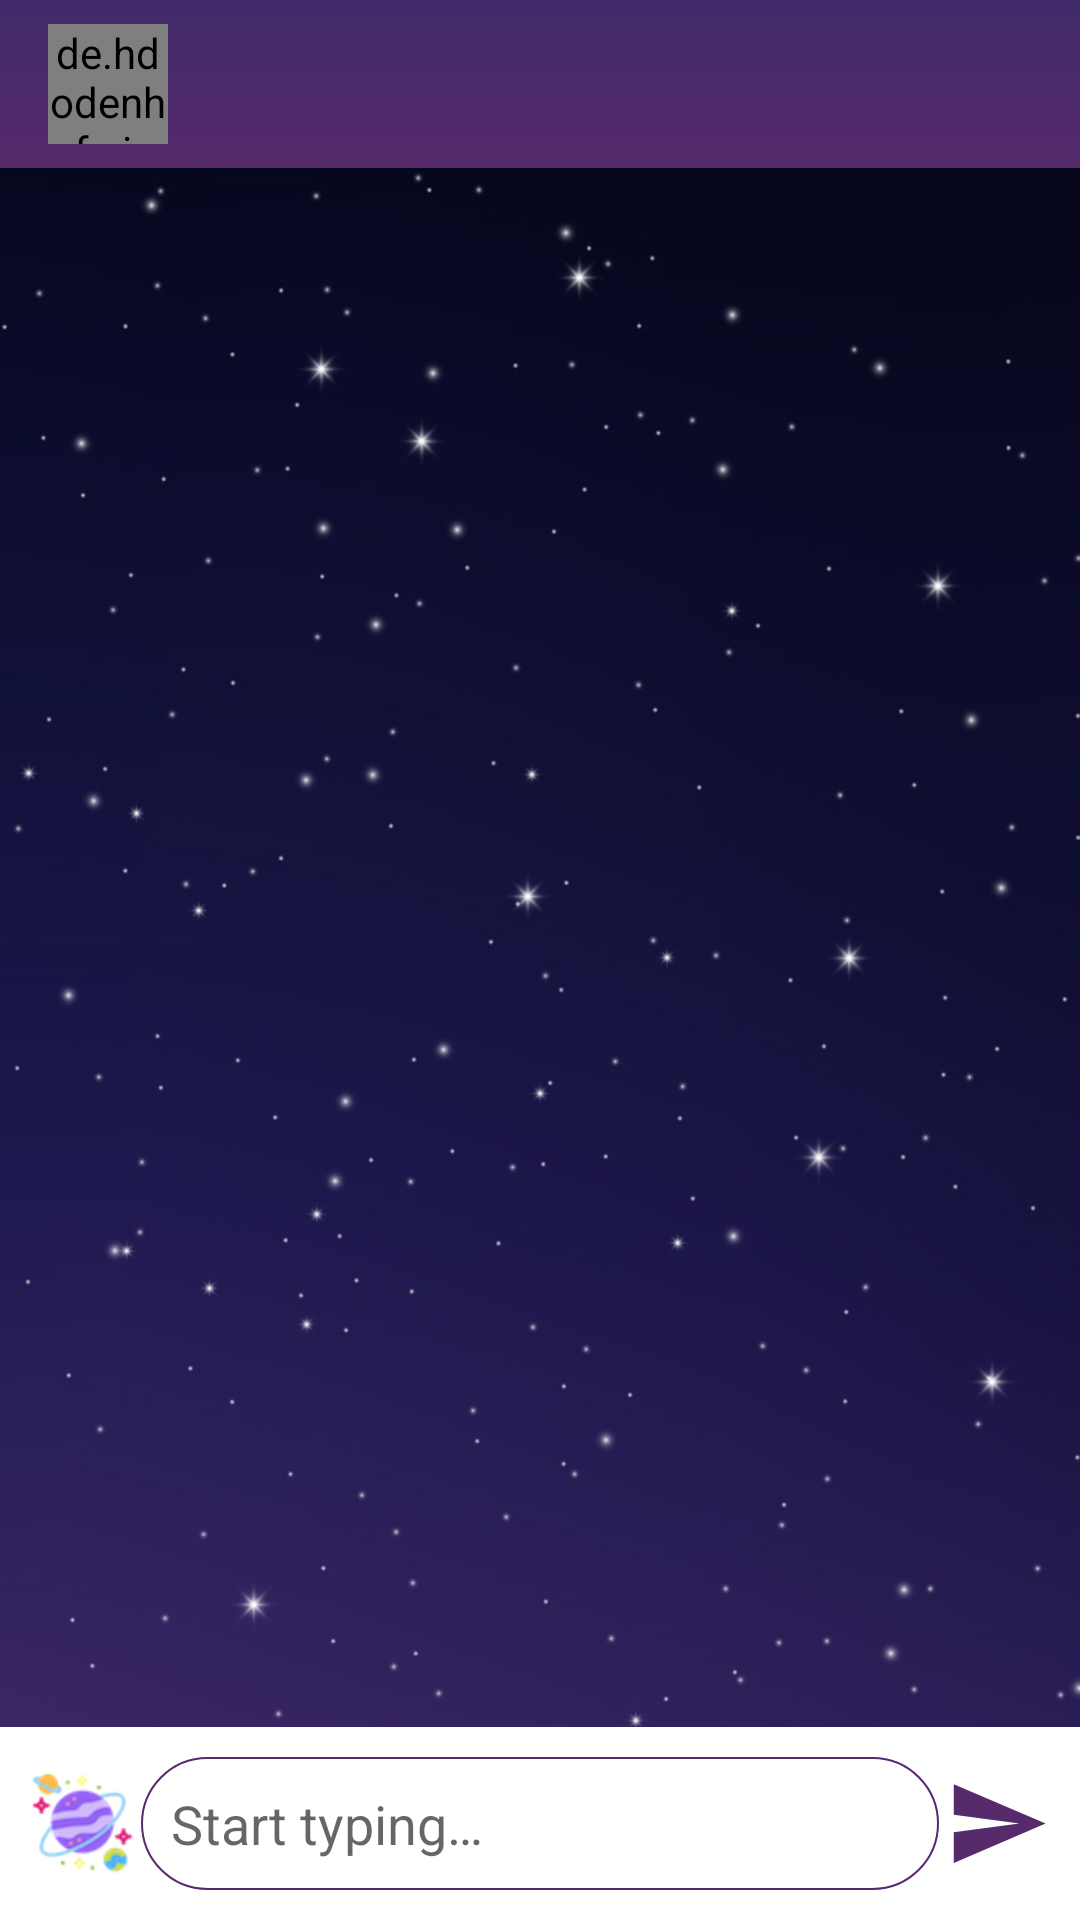

Screen size 1080px x 1920px. Icon name, then its box in pixels as (x1, y1, x2, y2):
send: (953, 1784, 1046, 1863)
